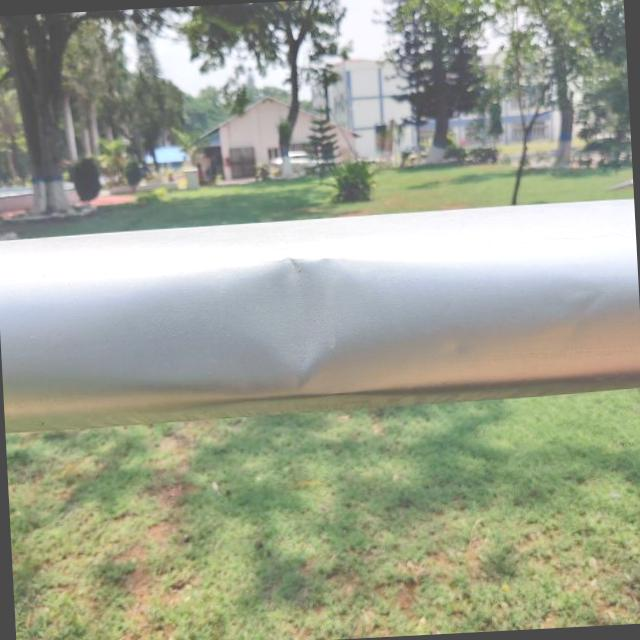dent: (214, 250, 384, 402)
